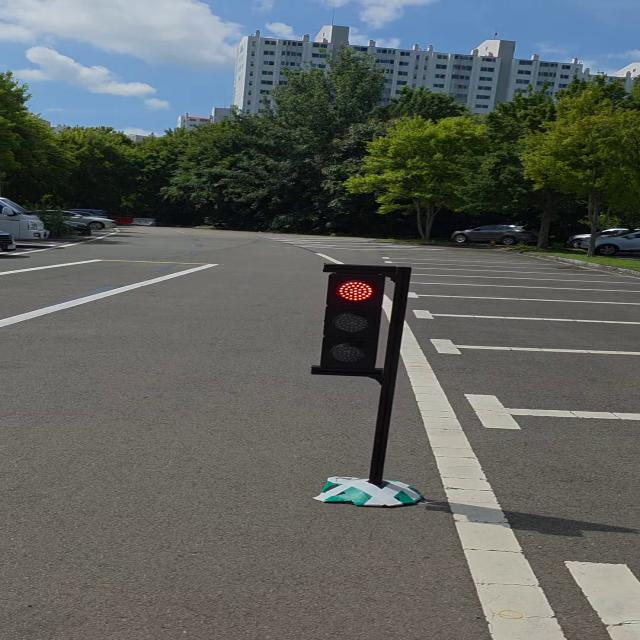red: (313, 262, 387, 374)
